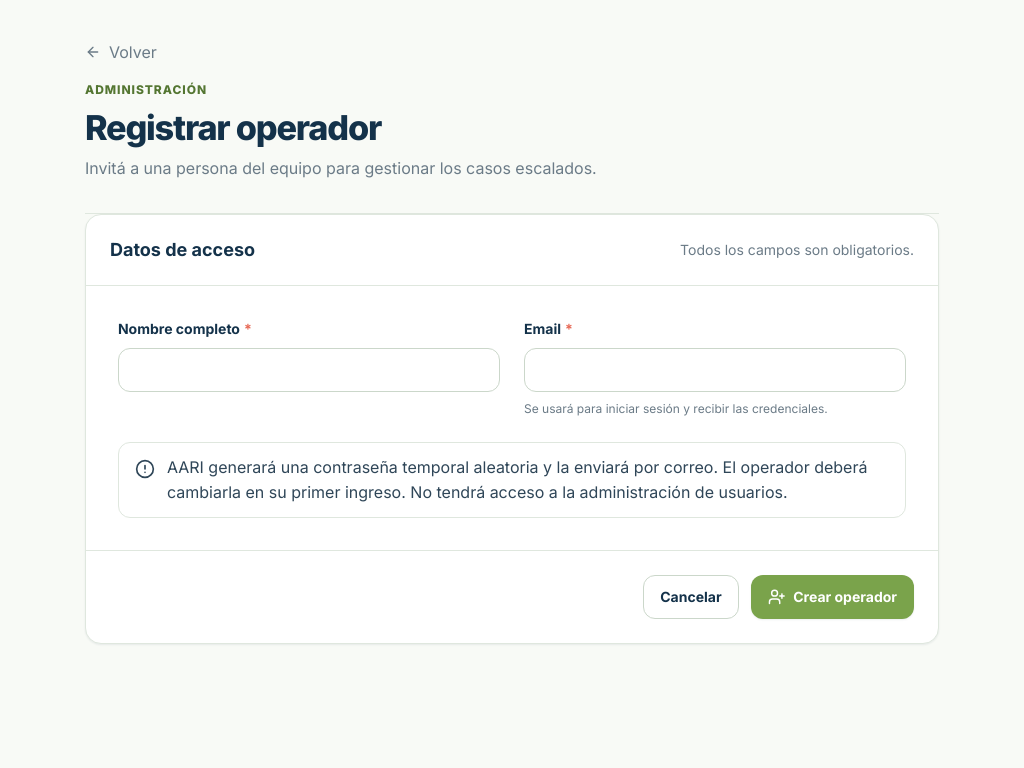
Test: HU7 — formulario › muestra el conflicto de email en el campo y conserva los valores
Type "Ana Prueba" into the field labelled "Nombre completo*".
click(309, 370); type("Ana Prueba")  # box [118,348,500,392]
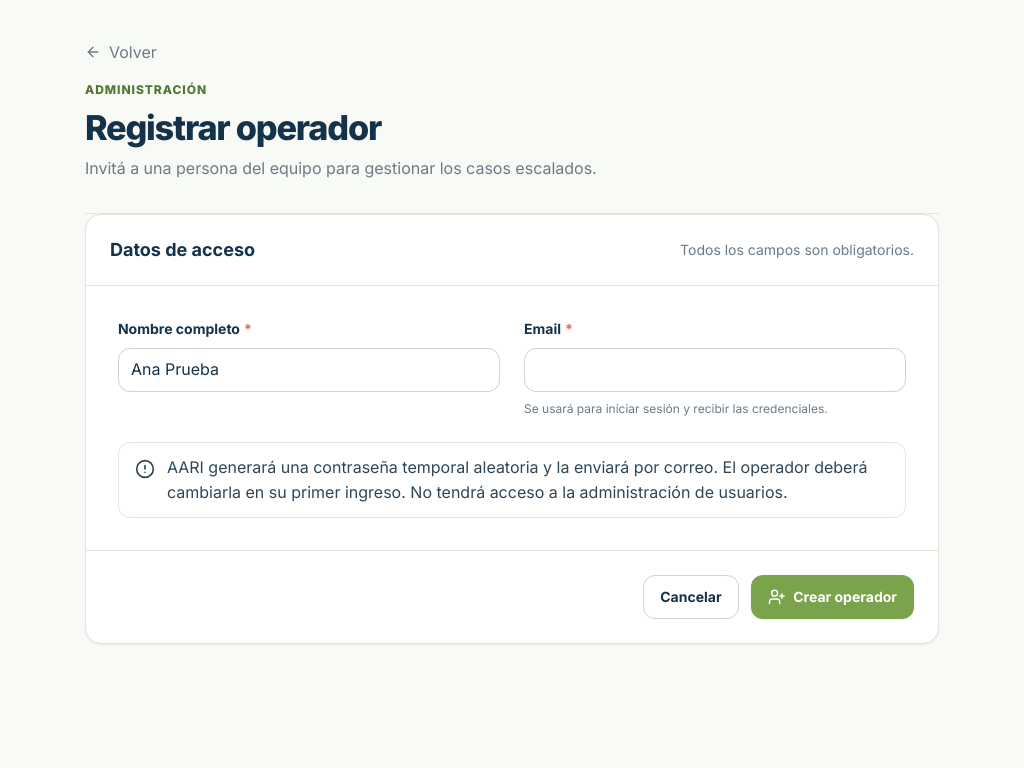
Type "operador@example.com" into the field labelled "Email*".
click(715, 370); type("operador@example.com")  # box [524,348,906,392]
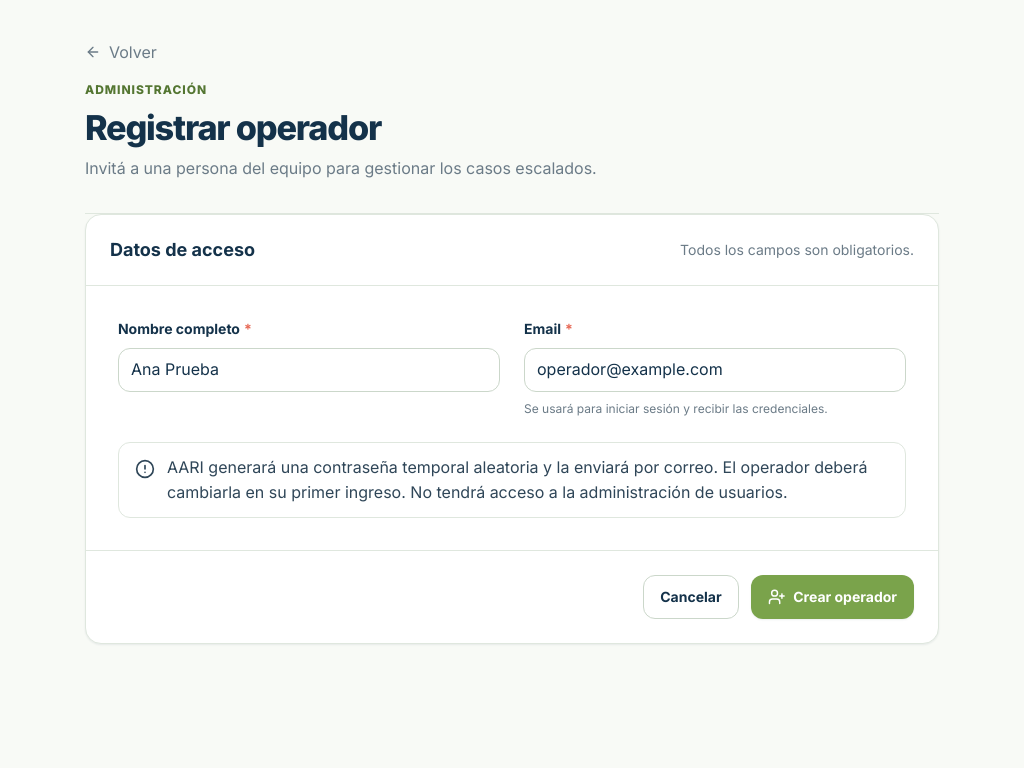
Click the button "Crear operador".
click(832, 597)  # box [751,575,914,619]
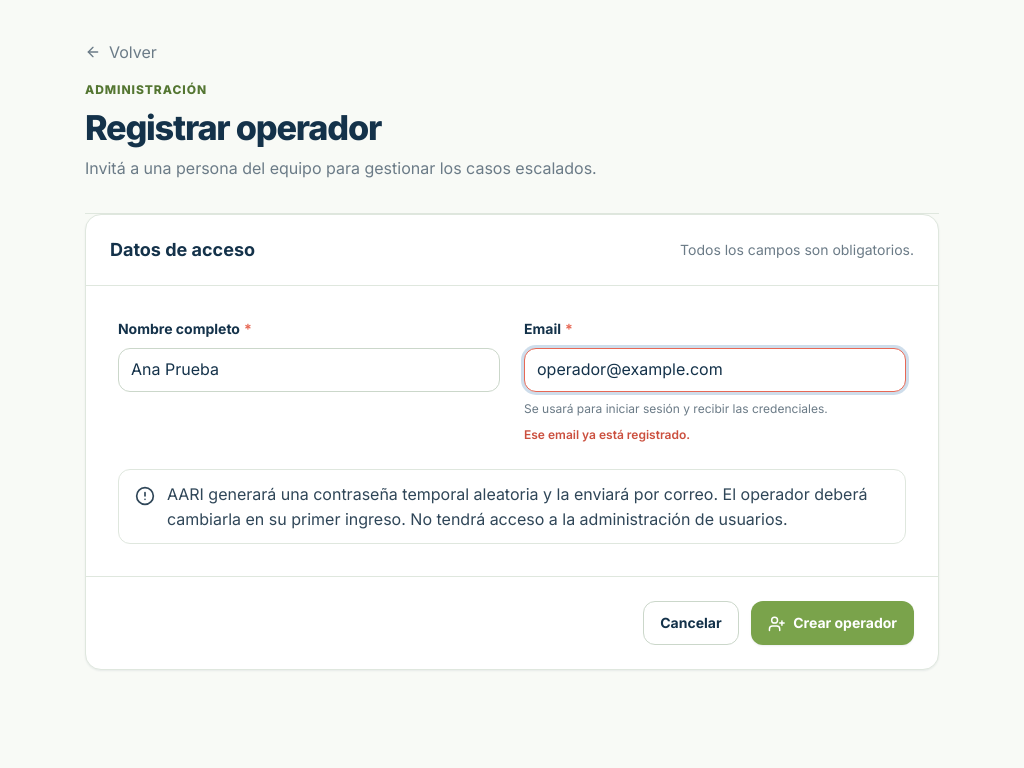
Result: the text "Ese email ya está registrado." is shown at [524,427,690,442]
